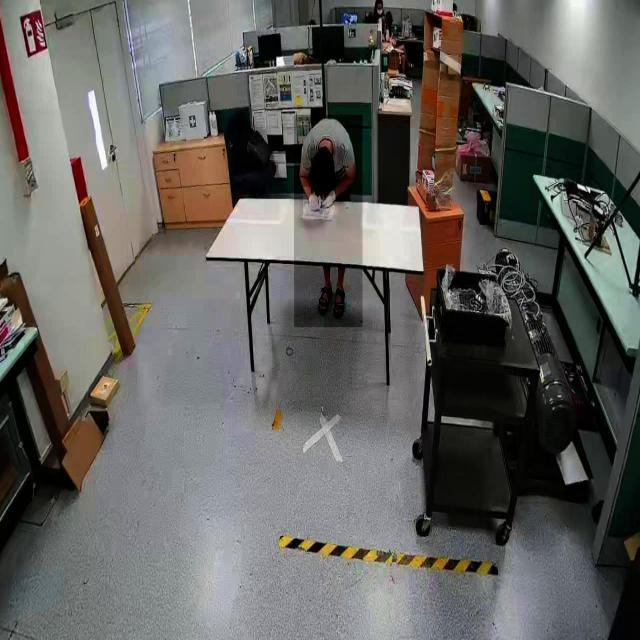gloves: (303, 187, 324, 220), (322, 188, 338, 216)
